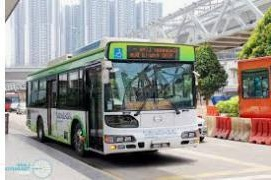bus: (24, 39, 199, 157), (234, 57, 271, 143)
